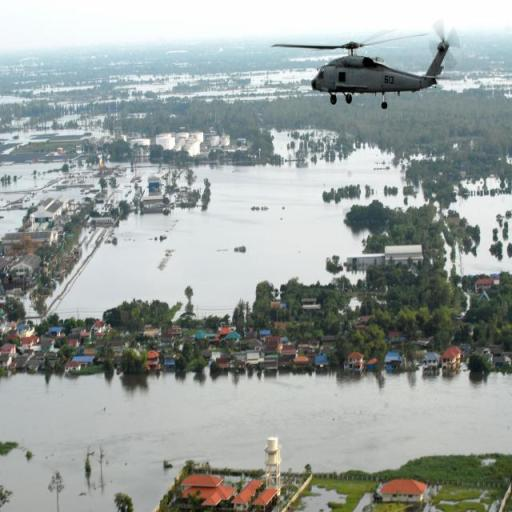flood: (0, 373, 512, 512), (56, 148, 406, 317), (0, 162, 62, 236), (458, 195, 512, 273), (0, 162, 64, 192), (135, 162, 158, 174), (105, 162, 130, 168)
house: (180, 469, 230, 508), (374, 477, 428, 505), (158, 128, 204, 154), (384, 243, 424, 268), (2, 229, 59, 246), (30, 198, 65, 224), (232, 480, 262, 510), (7, 256, 39, 282), (440, 346, 462, 377), (253, 488, 278, 512), (346, 254, 383, 268), (66, 356, 95, 373), (344, 352, 366, 374), (384, 350, 406, 372), (1, 340, 15, 371), (216, 323, 237, 340), (300, 296, 322, 310), (474, 278, 493, 294), (144, 324, 162, 340), (423, 354, 439, 371), (146, 352, 161, 370), (148, 176, 162, 195), (265, 336, 279, 354), (94, 214, 114, 226), (18, 323, 36, 336), (30, 356, 44, 370), (167, 327, 182, 339), (247, 351, 260, 364), (246, 339, 261, 349), (48, 327, 64, 336), (216, 357, 229, 368), (322, 336, 336, 346), (22, 337, 34, 348), (316, 356, 329, 366), (294, 356, 308, 365), (282, 346, 296, 355), (93, 322, 105, 332), (80, 331, 92, 340), (237, 137, 247, 147)
